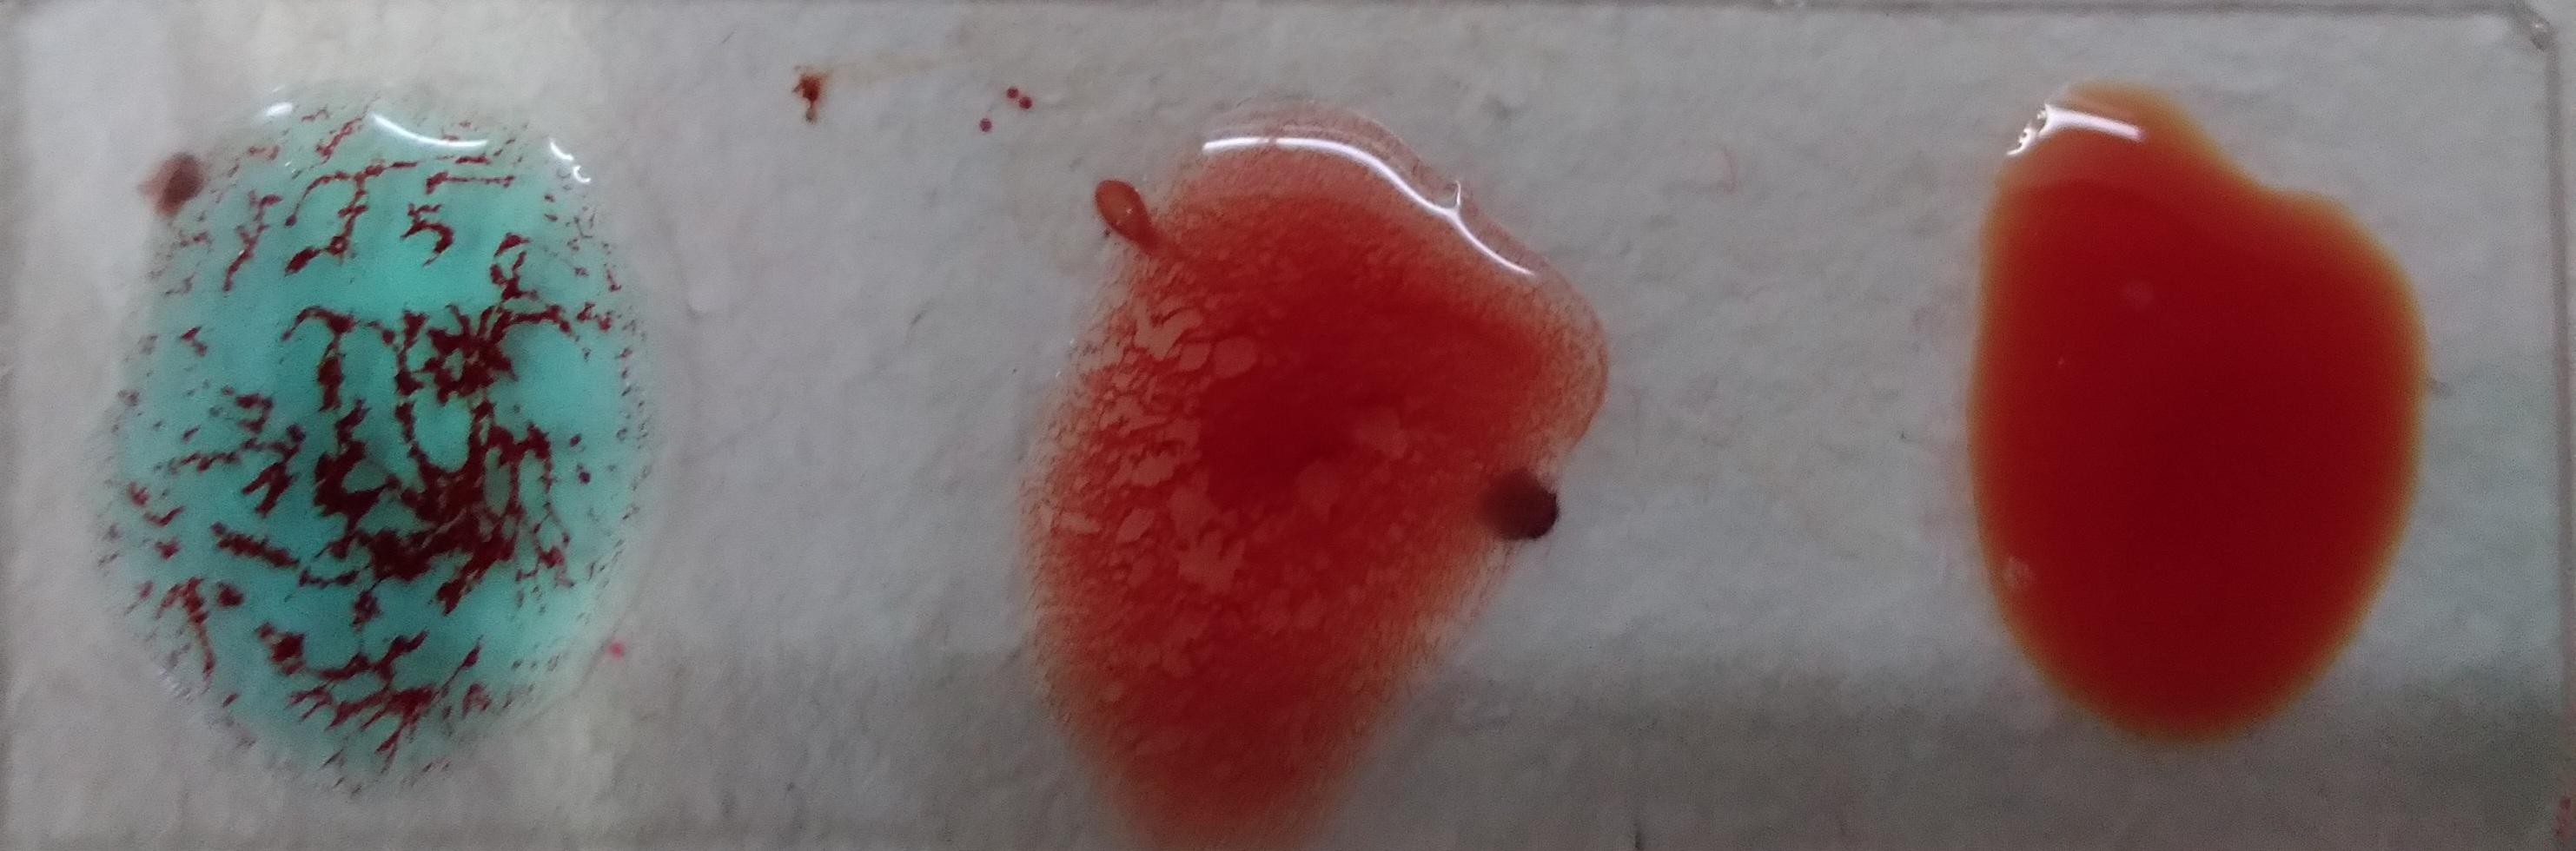A: (79, 94, 680, 810)
D: (1017, 117, 1564, 815)
